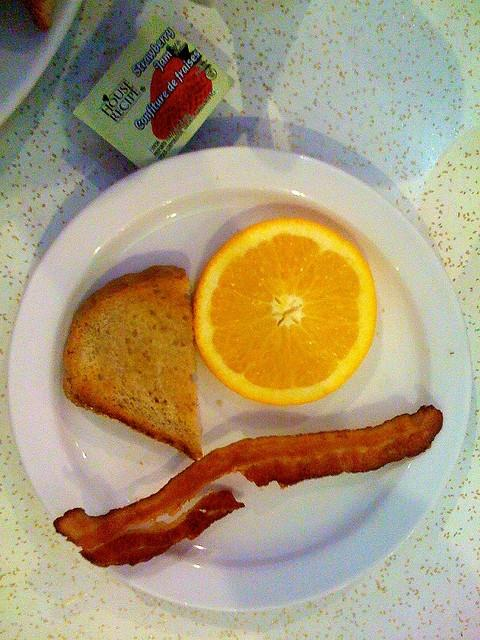orange: (192, 218, 379, 406)
strawberry: (150, 39, 213, 140)
